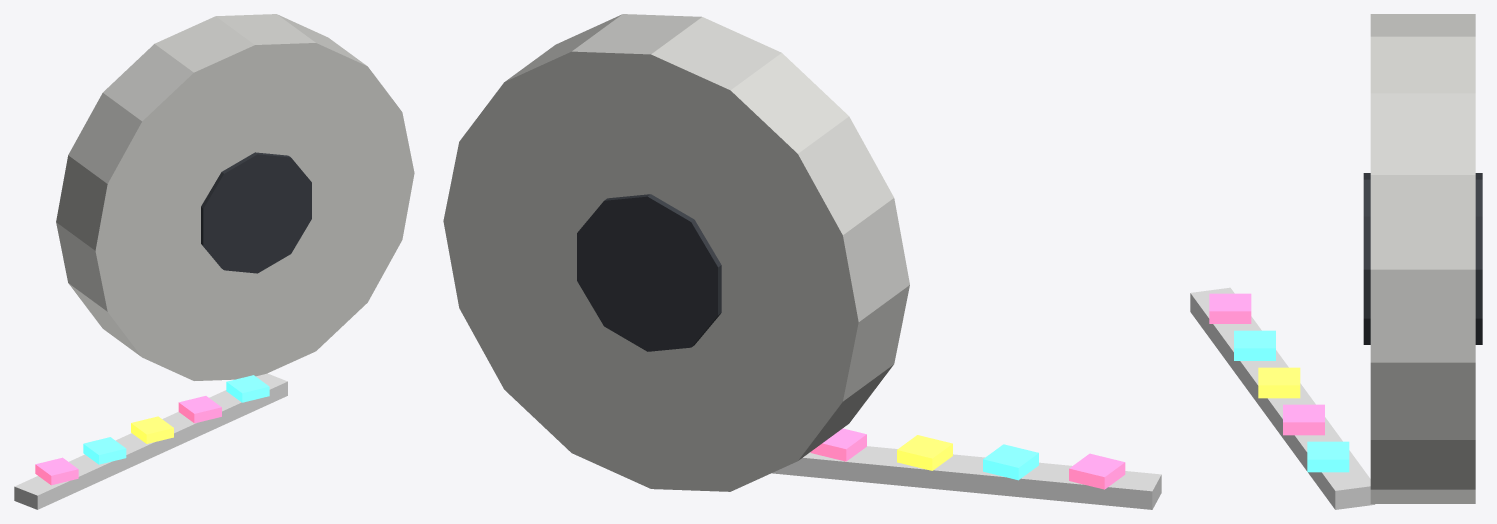
The model's file is prop_poster_p2.glb.
The picture shows the model from 3 angles, left to right: view 1: azimuth 30°, elevation 25°; view 2: azimuth 150°, elevation 25°; view 3: azimuth 270°, elevation 25°; orthographic projection. The views are drawn at different scales.
Visible parts, largest first — view 1: prop_poster_p2_mesh; view 2: prop_poster_p2_mesh; view 3: prop_poster_p2_mesh.
Part boxes in pixels (x1,y1,x2,y2): prop_poster_p2_mesh: [14, 14, 414, 509]; prop_poster_p2_mesh: [443, 14, 1161, 509]; prop_poster_p2_mesh: [1190, 14, 1482, 509].
Bounding box in the file's own units: 0.1986 × 0.145 × 0.0834.
